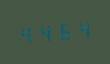four: (36, 21, 53, 44), (18, 23, 35, 45), (72, 18, 89, 40)
six: (54, 20, 71, 42)
